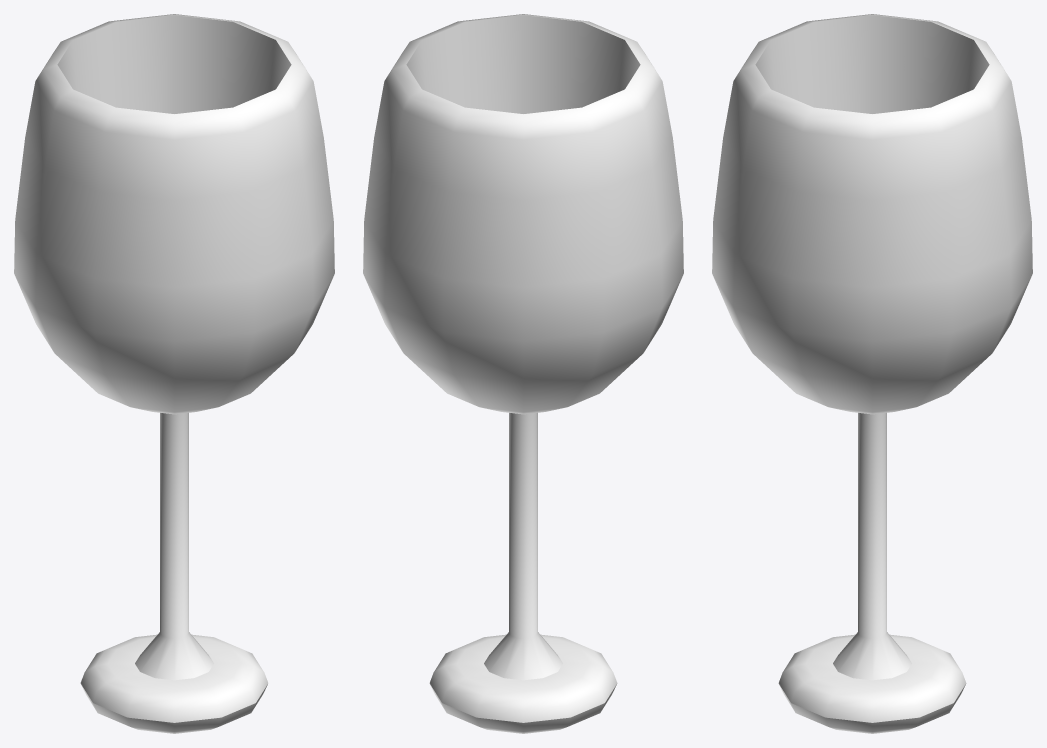
File: Cup_3.fbx
3 renders of one model, left to right at view 1: azimuth 30°, elevation 25°; view 2: azimuth 150°, elevation 25°; view 3: azimuth 270°, elevation 25°, orthographic.
Visible parts, largest first — view 1: Cup_3; view 2: Cup_3; view 3: Cup_3.
Part boxes in pixels (x1,y1,x2,y2): Cup_3: (14,14,334,733); Cup_3: (363,14,683,733); Cup_3: (712,14,1032,733).
Bounding box in the file's own units: 0.0777 × 0.1705 × 0.0777.
